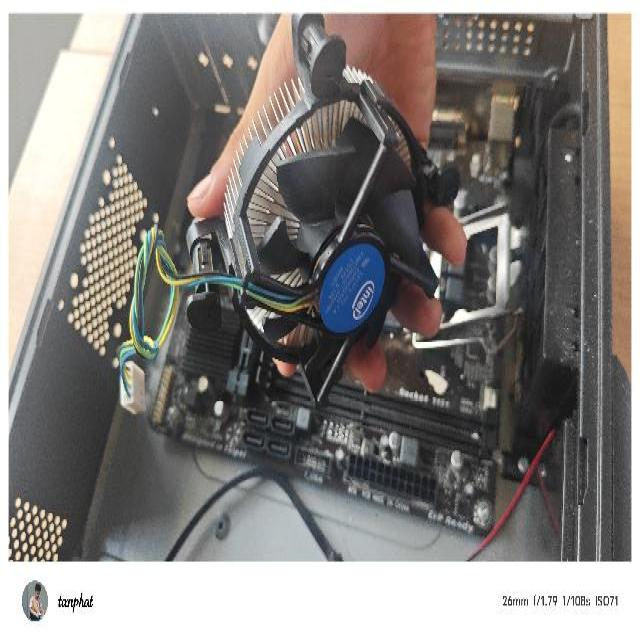CPU_Fan: (184, 12, 461, 413)
